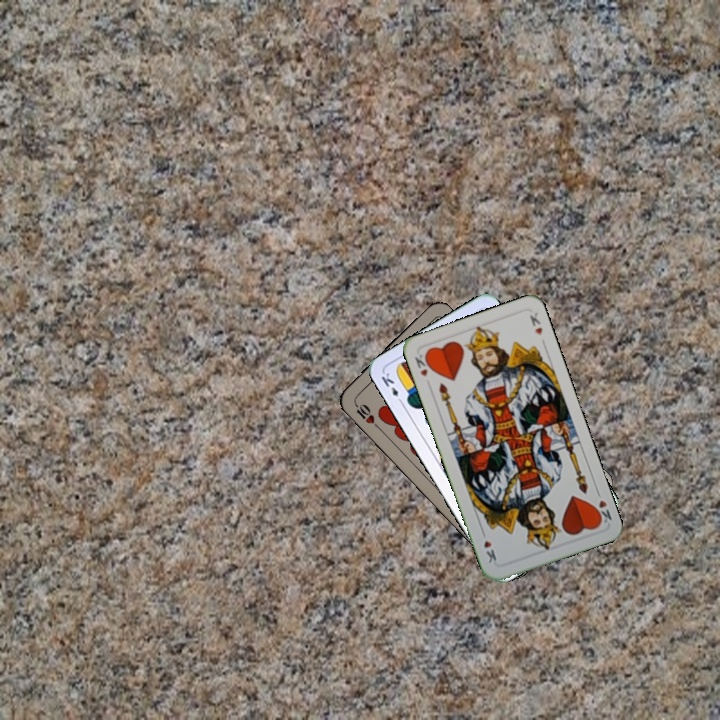EK: (377, 368, 406, 407)
H10: (350, 398, 382, 431)
HK: (590, 496, 614, 528), (411, 350, 434, 380)
